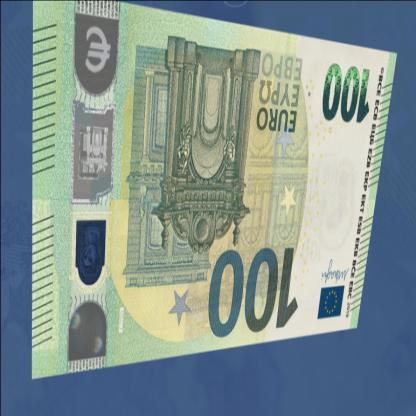euro_banknote: (27, 8, 404, 372)
